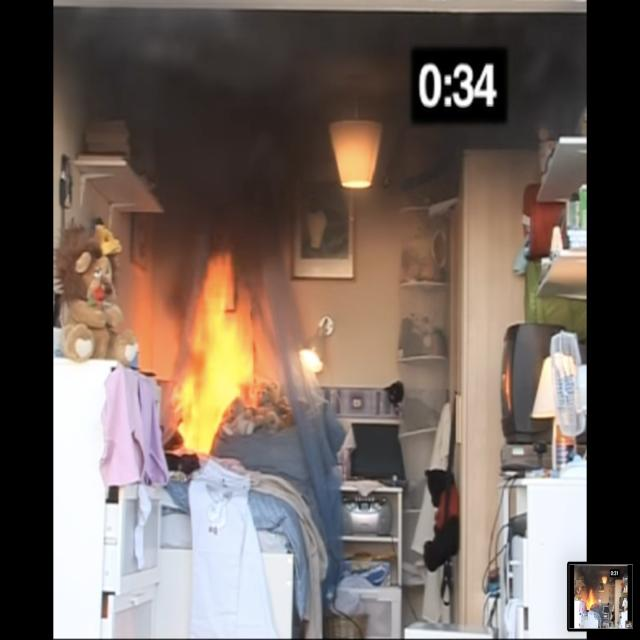Fogo: (137, 238, 306, 488)
